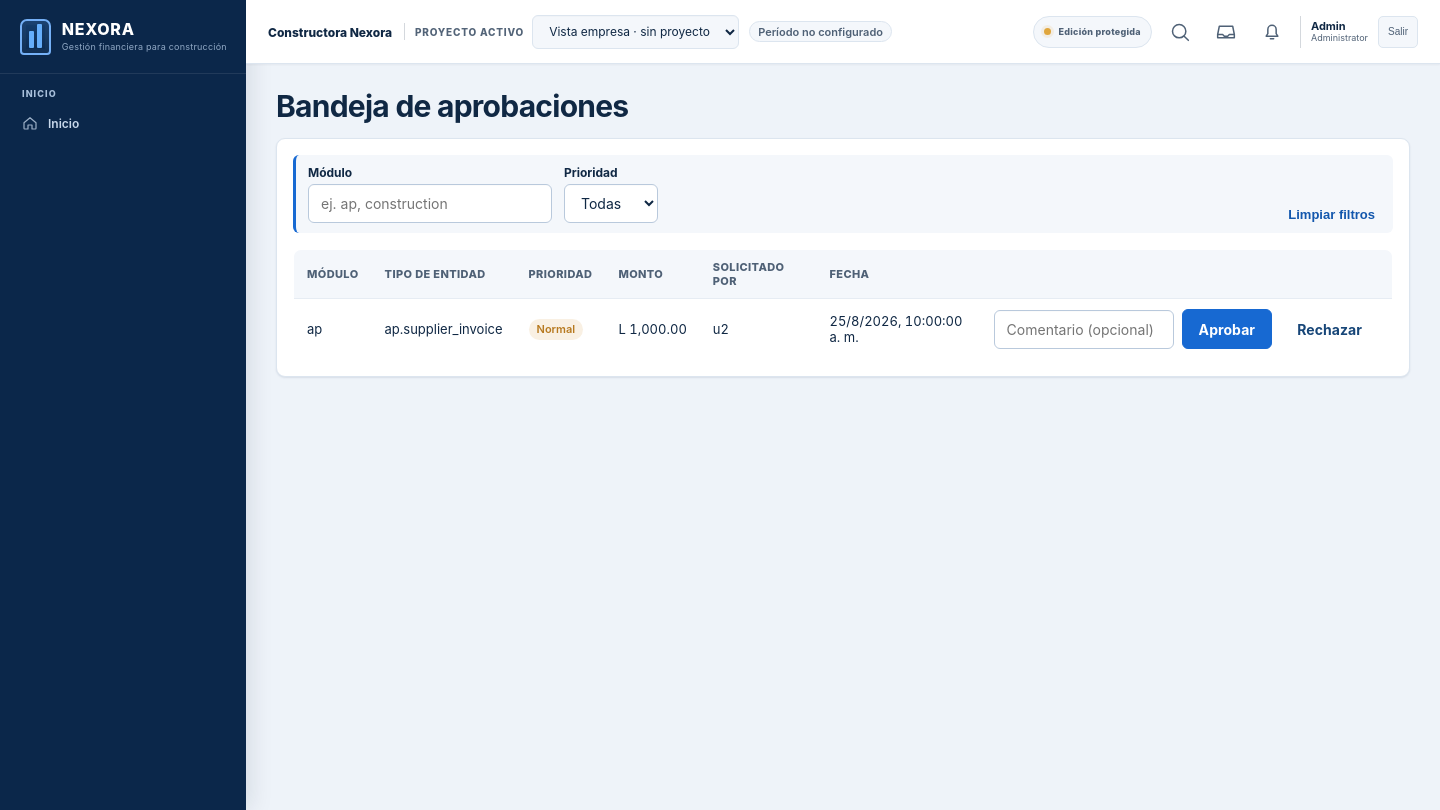
Test case: ApprovalInboxPage › loads pending approvals, decides via the real API, and refetches the updated row
Expected: the text "ap.supplier_invoice" is shown, [384,321,502,337]
Click the button "Aprobar": click(1227, 329) [1182,309,1272,349]
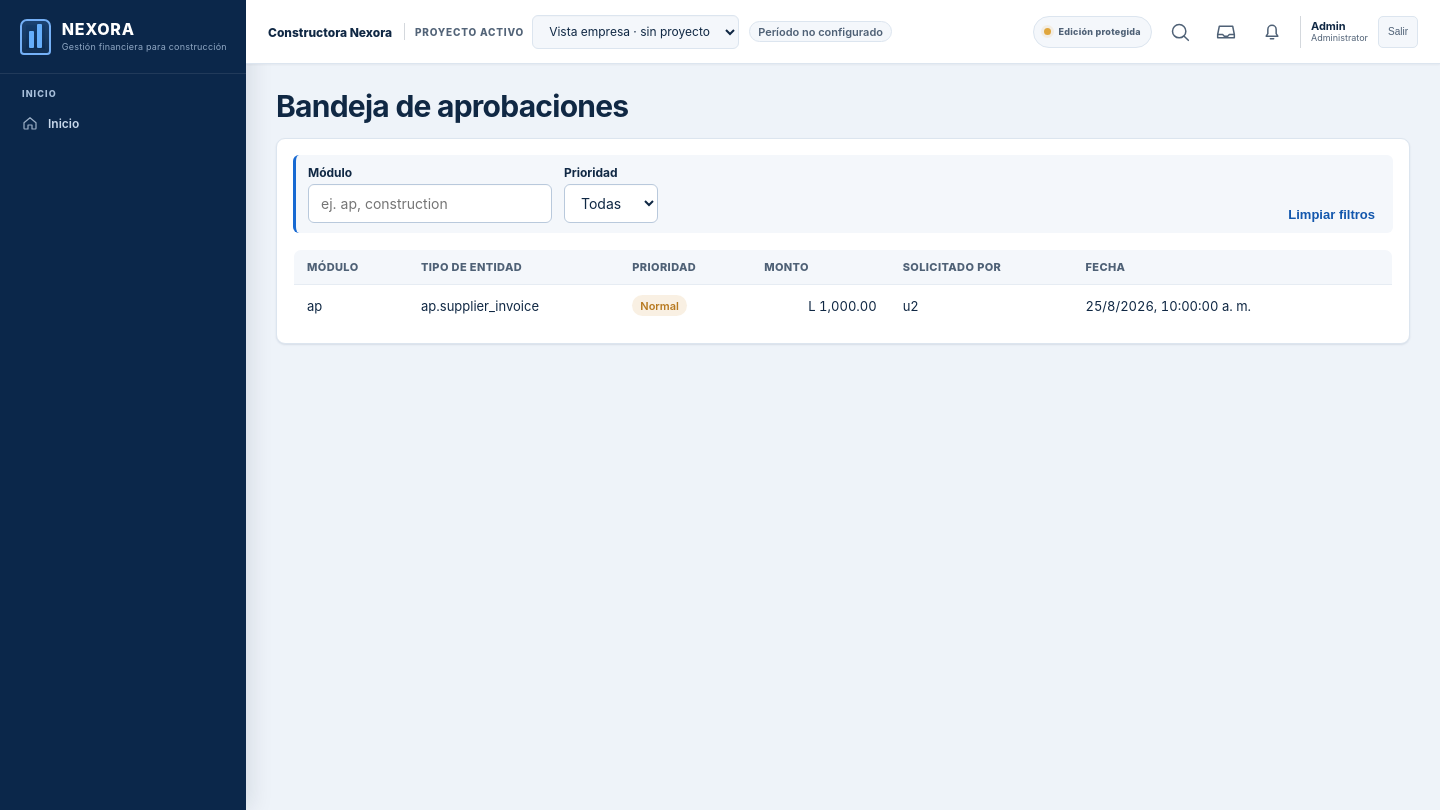
Expected: the text "ap.supplier_invoice" is shown, [408,285,619,327]
Now the button "Aprobar" is gone
